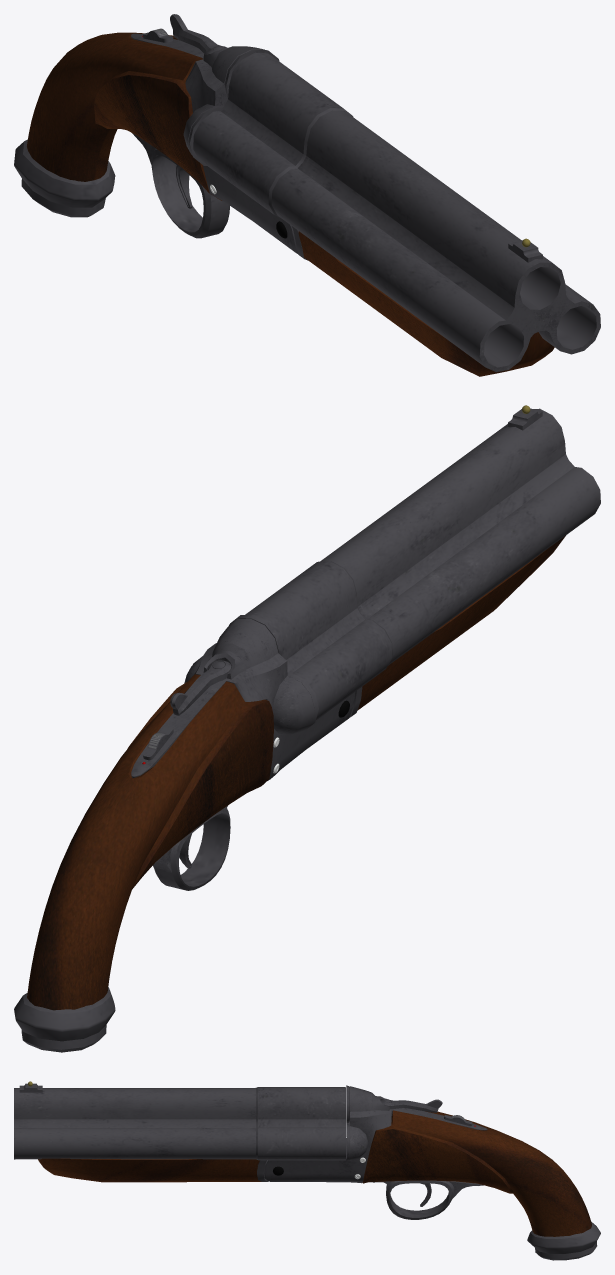
The model's file is shotgun3.obj.
3 views of the same model, one above another, from view 1: azimuth 30°, elevation 25°; view 2: azimuth 150°, elevation 25°; view 3: azimuth 270°, elevation 25° (orthographic). The views are drawn at different scales.
Visible parts, largest first — view 1: ThreeBarrels, wooden, Shell_HLD, KBZ, Cap, Trigger_C, SLC; view 2: ThreeBarrels, wooden, Shell_HLD, KBZ, Cap, Trigger_C, SLC; view 3: ThreeBarrels, wooden, Shell_HLD, KBZ, Cap, Trigger_C, SLC.
Part boxes in pixels (bbox=[...]): ThreeBarrels: bbox=[193, 52, 600, 371]; wooden: bbox=[27, 32, 221, 200]; Shell_HLD: bbox=[131, 33, 297, 253]; KBZ: bbox=[298, 231, 554, 376]; Cap: bbox=[14, 139, 115, 217]; Trigger_C: bbox=[132, 133, 229, 238]; SLC: bbox=[170, 14, 226, 54]; ThreeBarrels: bbox=[245, 408, 600, 719]; wooden: bbox=[27, 674, 273, 1010]; Shell_HLD: bbox=[131, 615, 355, 780]; KBZ: bbox=[357, 535, 565, 710]; Cap: bbox=[14, 987, 115, 1052]; Trigger_C: bbox=[152, 805, 230, 890]; SLC: bbox=[170, 660, 231, 715]; ThreeBarrels: bbox=[14, 1087, 345, 1160]; wooden: bbox=[362, 1110, 591, 1236]; Shell_HLD: bbox=[265, 1085, 487, 1183]; KBZ: bbox=[38, 1158, 261, 1182]; Cap: bbox=[527, 1221, 600, 1260]; Trigger_C: bbox=[369, 1180, 483, 1219]; SLC: bbox=[381, 1099, 442, 1112].
Size of the model in its own units: 0.3009 by 0.6649 by 2.04.
Materials: 1 (1 with a texture image).
